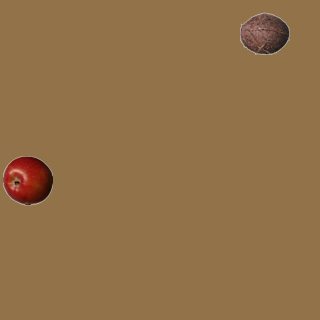Apple Braeburn: (2, 155, 52, 205)
Cocos: (239, 8, 289, 58)
